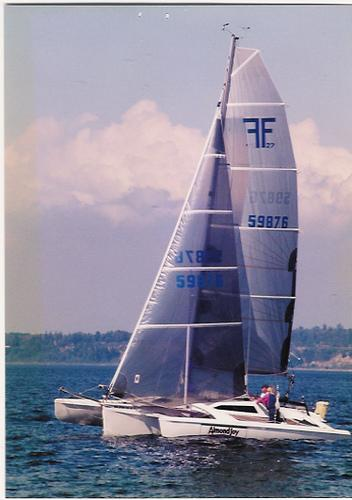Ship: (55, 35, 352, 443)
